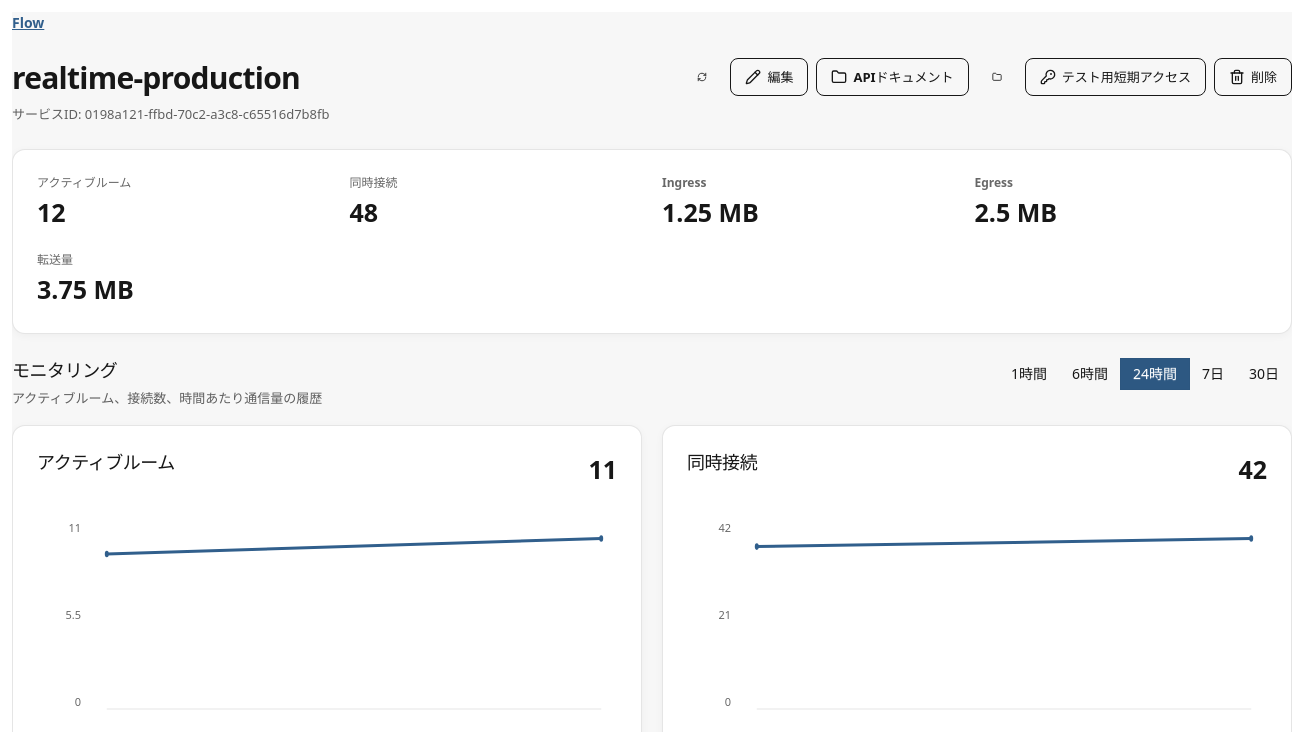
RealtimeServiceDetailPage › 現在値、履歴グラフ、エンドポイント、ルーム上限を表示する
Expected: the heading "realtime-production" is shown, [12, 58, 330, 98]
Expected: the text "12" is shown, [37, 195, 66, 229]
Click the button "7日": (1213, 374) [1189, 358, 1237, 390]
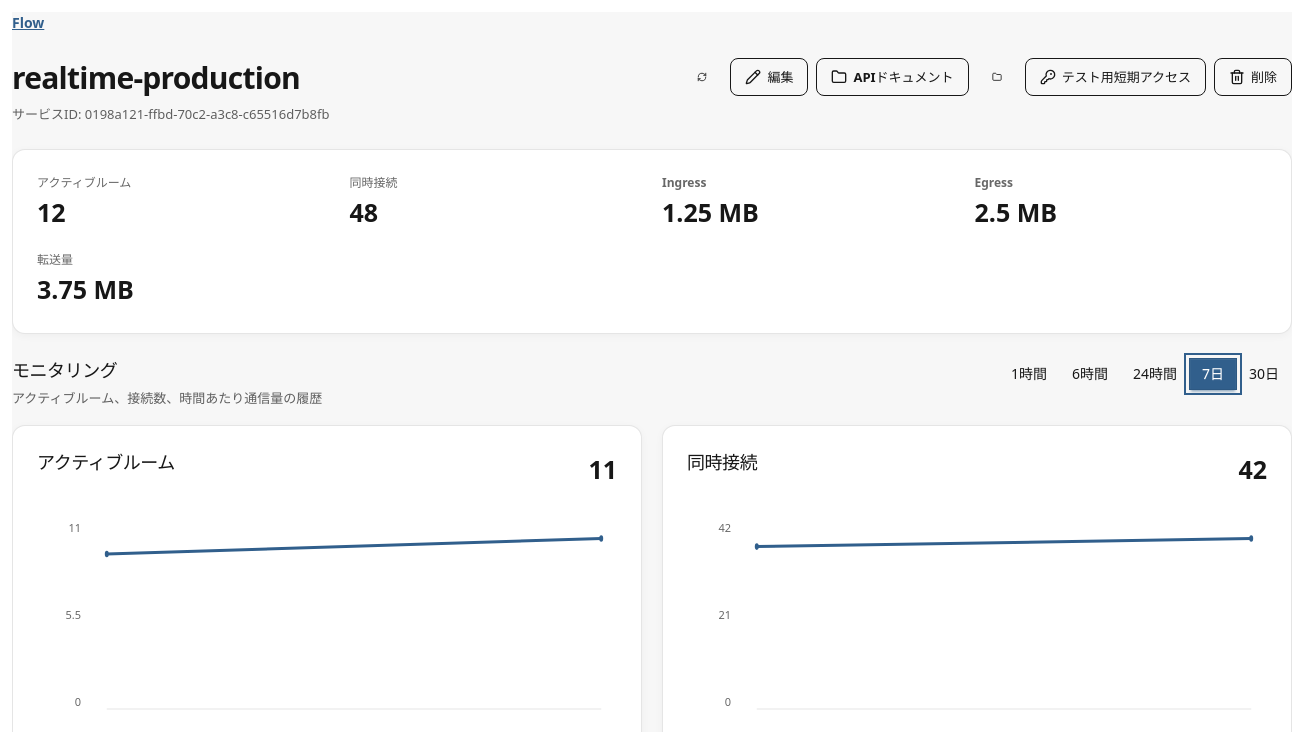
Now the button "7日" is pressed, box [1189, 358, 1237, 390]
